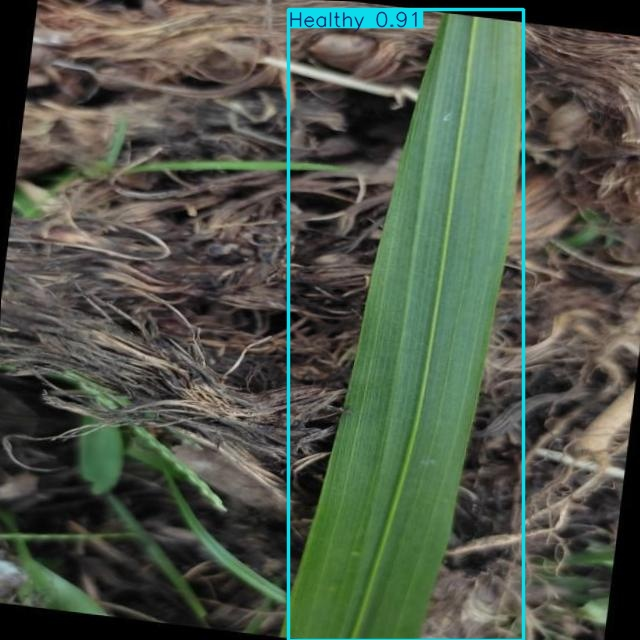Healthy: (289, 9, 523, 640)
